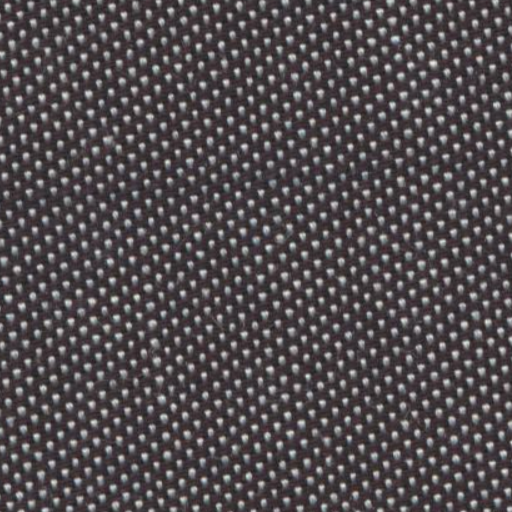TuoSha: (20, 143, 492, 222)
